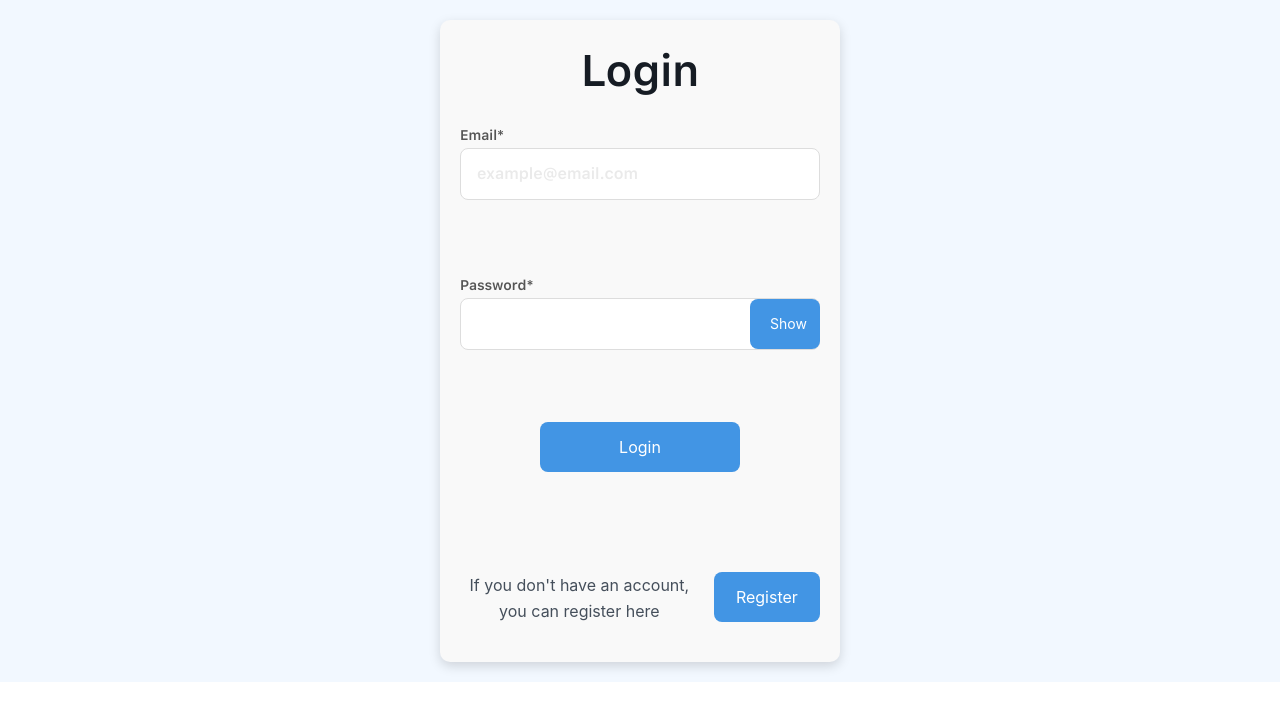
Scenario: checking button disabled with wrong data on Login page › checking button disabled with wrong data on Login page
The width and height of the screenshot is (1280, 720).
Type "rsschoolgmail.com" into the field labelled "Email*".
click(640, 174); type("rsschoolgmail.com")  # box [460, 148, 820, 200]
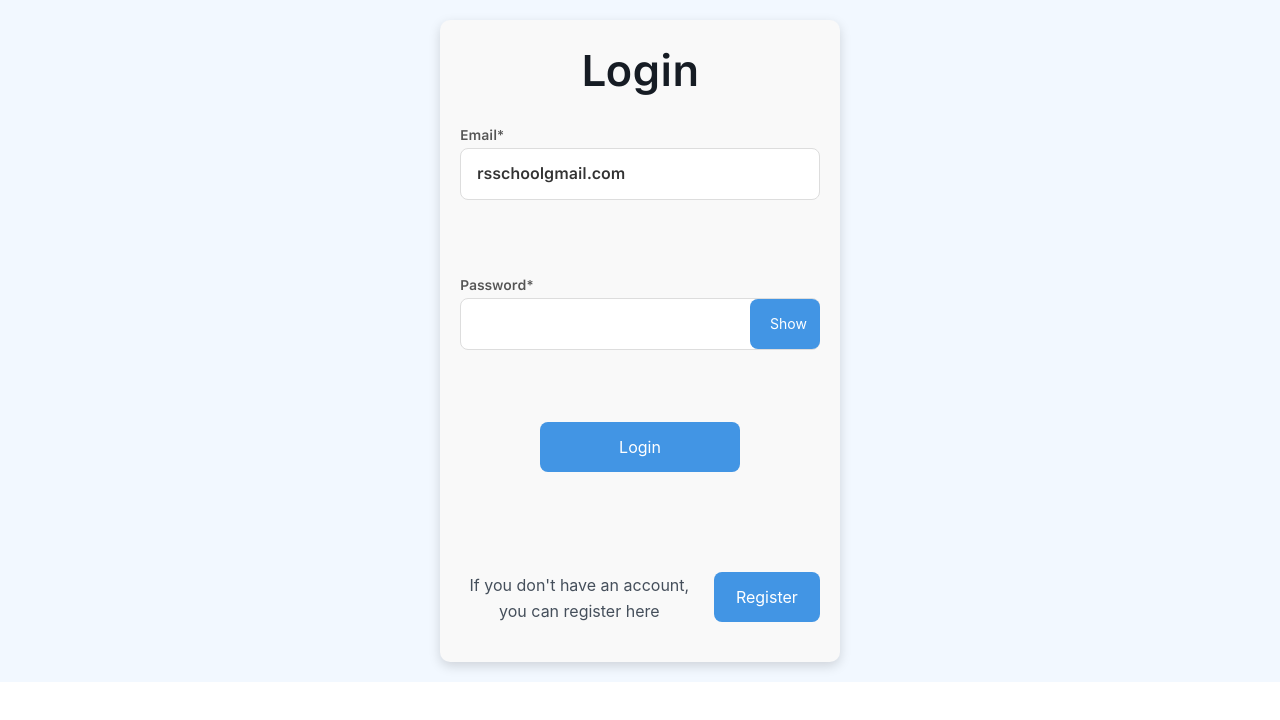
Type "aSqte229" into the password field labelled "Password*".
click(640, 324); type("aSqte229")  # box [460, 298, 820, 350]
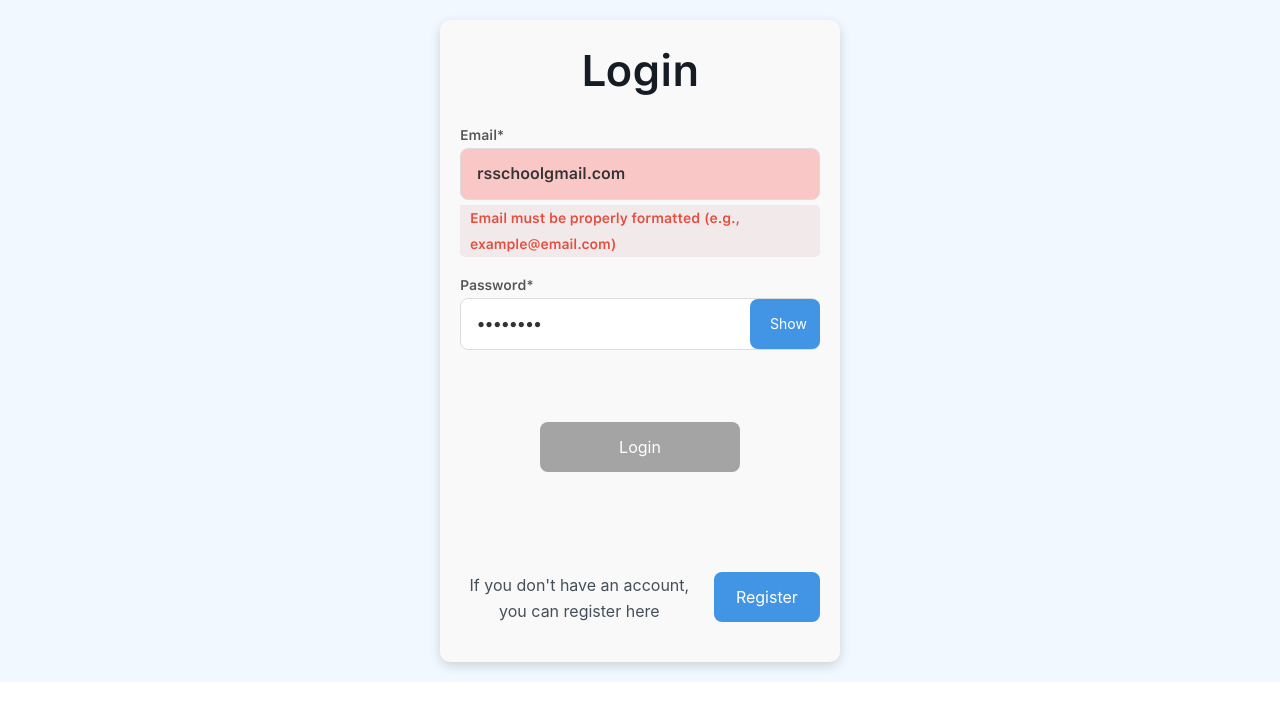
Now the button "Login" is disabled, box [540, 422, 740, 472]
